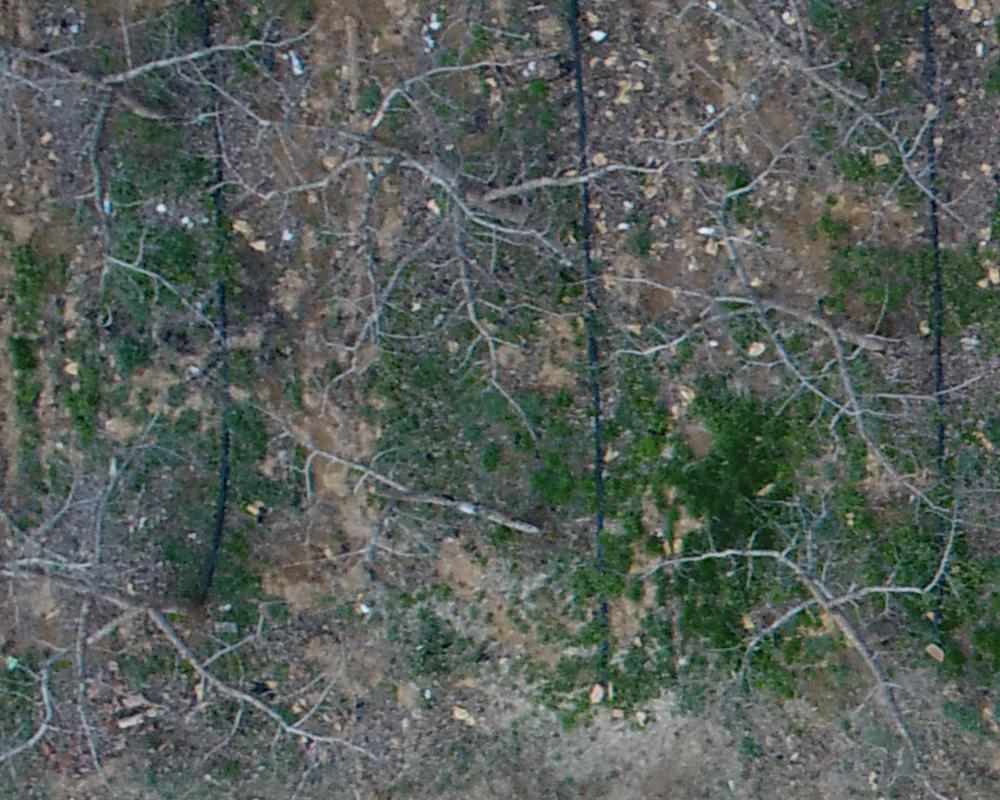apple: (197, 36, 651, 422), (628, 118, 990, 536), (10, 442, 389, 770), (636, 496, 989, 790), (639, 10, 984, 228), (10, 15, 317, 214)
